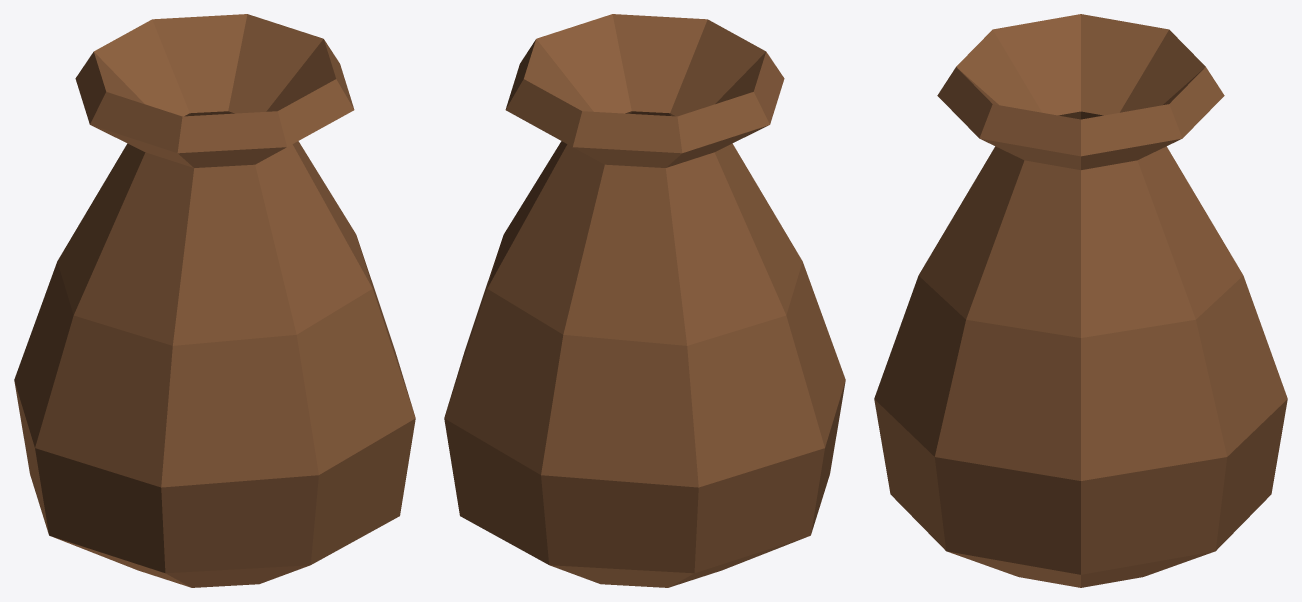
The model's file is egypt-amphora-simple.glb.
The picture shows the model from 3 angles, left to right: view 1: azimuth 30°, elevation 25°; view 2: azimuth 150°, elevation 25°; view 3: azimuth 270°, elevation 25°; orthographic projection.
Visible parts, largest first — view 1: egypt-amphora-simple; view 2: egypt-amphora-simple; view 3: egypt-amphora-simple.
Boxes of the visible parts, x1,y1,x2,y2 form: egypt-amphora-simple: [14, 14, 415, 587]; egypt-amphora-simple: [444, 14, 845, 587]; egypt-amphora-simple: [874, 14, 1287, 587].
Bounding box in the file's own units: 0.6968 × 0.8996 × 0.697.
1 material, 1 textured.
